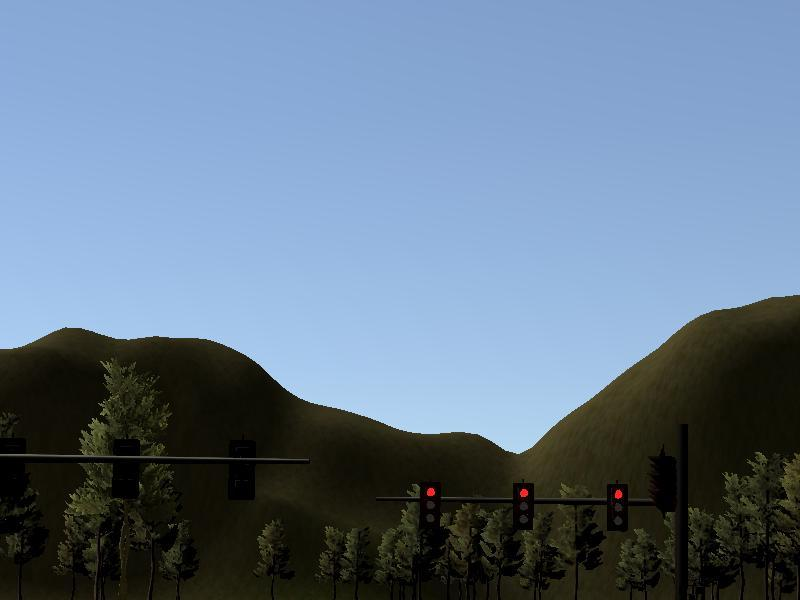Red: (512, 484, 533, 531), (422, 484, 441, 531), (608, 486, 626, 531)
